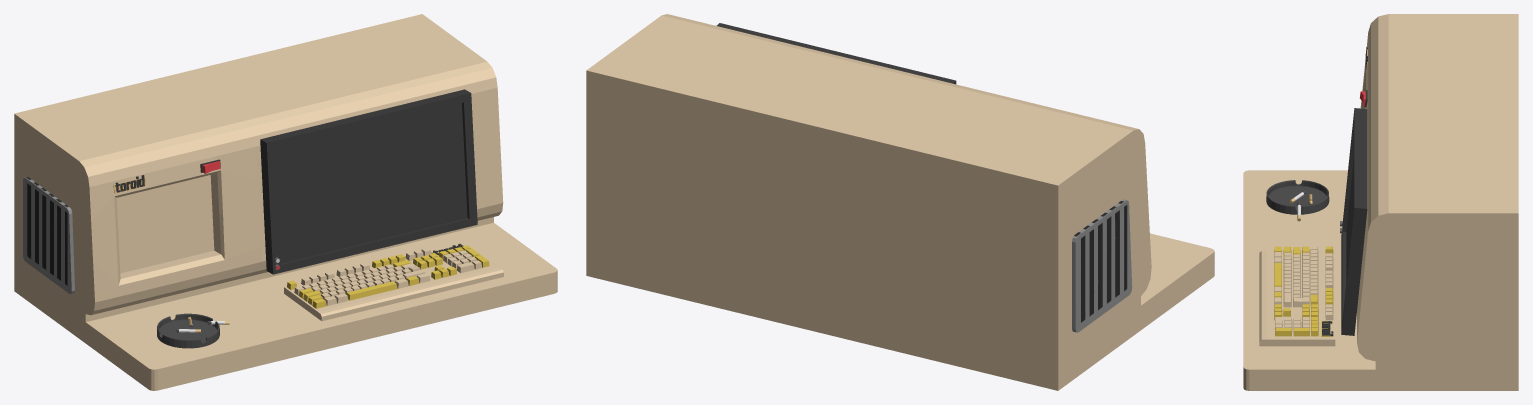
The model's file is terminal_with_mats.glb.
3 views of the same model, side by side, from view 1: azimuth 30°, elevation 25°; view 2: azimuth 150°, elevation 25°; view 3: azimuth 270°, elevation 25° (orthographic). The views are drawn at different scales.
Visible parts, largest first — view 1: Cube.007, Cube.008, Cube.011, Cube.068, Cube.009, Cube.047, Cylinder.002; view 2: Cube.007, Cube.011, Cube.008; view 3: Cube.007, Cube.008, Cube.009, Cube.068, Cylinder.002, Cube.047.
Boxes of the visible parts, x1,y1,x2,y2 form: Cube.007: (14, 14, 557, 390); Cube.008: (260, 89, 477, 274); Cube.011: (23, 177, 74, 293); Cube.068: (294, 248, 482, 305); Cube.009: (284, 242, 503, 321); Cube.047: (287, 245, 489, 308); Cylinder.002: (157, 313, 219, 348); Cube.007: (586, 14, 1214, 390); Cube.011: (1072, 199, 1132, 332); Cube.008: (716, 23, 956, 84); Cube.007: (1243, 14, 1518, 390); Cube.008: (1341, 108, 1367, 335); Cube.009: (1259, 250, 1335, 346); Cube.068: (1274, 246, 1333, 332); Cylinder.002: (1266, 180, 1329, 214); Cube.047: (1274, 246, 1333, 336).
Bounding box in the file's own units: 5.81 × 2.4 × 3.37.
11 materials, 1 textured.
